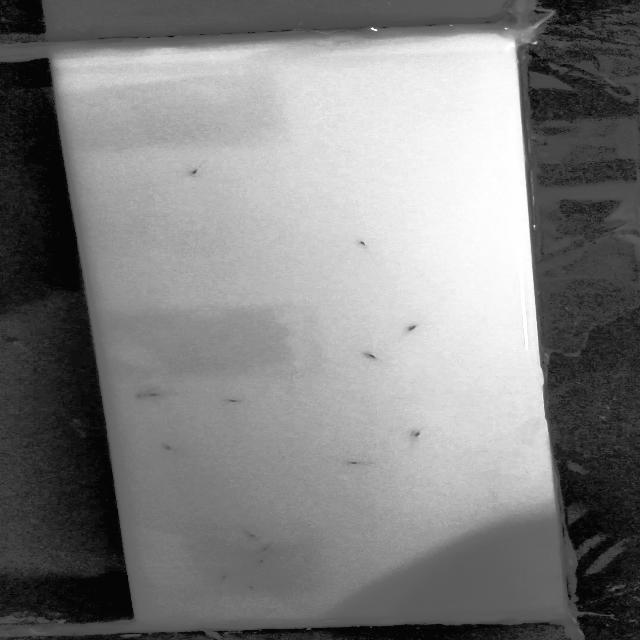shrimp: (213, 393, 248, 410), (178, 162, 210, 179), (396, 319, 423, 337), (345, 237, 378, 251), (232, 528, 264, 542), (247, 554, 274, 568), (132, 390, 166, 401), (361, 348, 380, 365), (156, 442, 182, 454), (214, 569, 233, 585), (404, 427, 427, 440), (248, 545, 277, 554), (241, 581, 258, 594), (342, 457, 362, 468)
